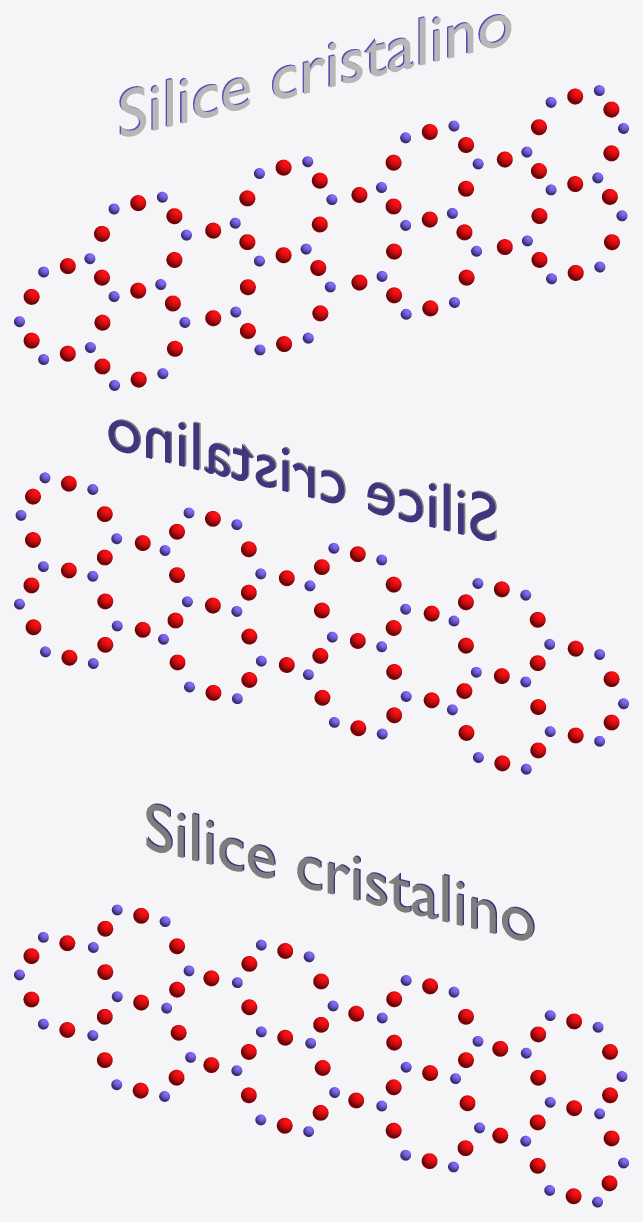
Rendered from silice.glb.
3 views of the same model, one above another, from view 1: azimuth 30°, elevation 25°; view 2: azimuth 150°, elevation 25°; view 3: azimuth 330°, elevation 25° (orthographic).
Parts seen in each view (by area): view 1: Text.010, Text.009; view 2: Text.009, Text.010; view 3: Text.010, Text.009.
Boxes of the visible parts, bbox=[...] form: Text.010: bbox=[120, 15, 511, 136]; Text.009: bbox=[119, 14, 505, 134]; Text.009: bbox=[108, 420, 495, 540]; Text.010: bbox=[114, 419, 496, 538]; Text.010: bbox=[146, 804, 533, 940]; Text.009: bbox=[148, 803, 534, 936].
Bounding box in the file's own units: 50.97 × 22.85 × 2.69.
